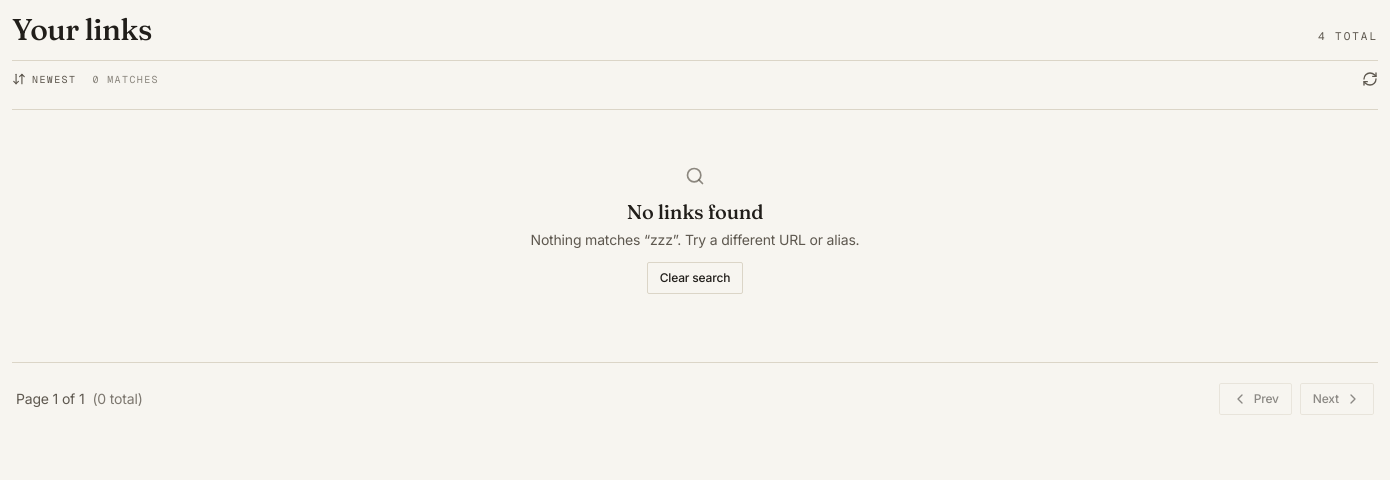
it: LinkList › shows a search empty state and clears it
This screenshot has width=1390, height=480.
expect the text "No links found" is shown: met, box [627,199,763,224]
What coordinates should you click on to do the following:
click the button "Clear search"
I would click on:
 (695, 278)
Its box is [647,262,743,294].
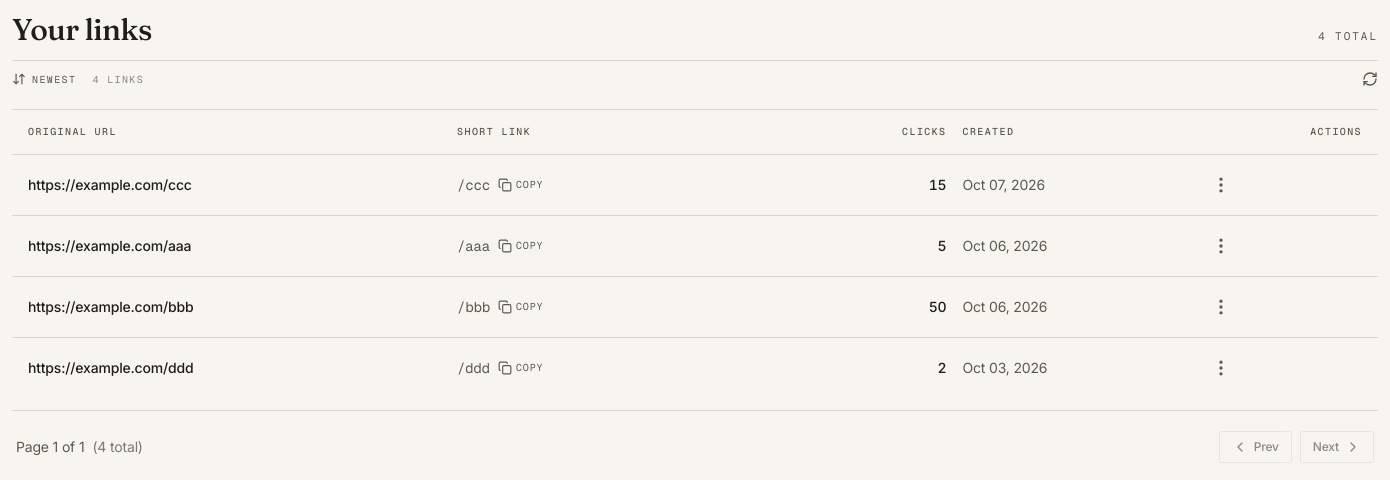
expect the text "(4 total)" is shown: met, box [92,438,143,455]
